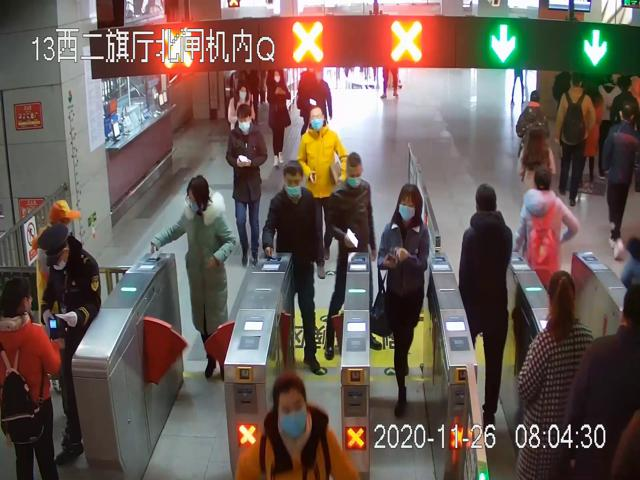person: (151, 179, 235, 380), (37, 224, 102, 462), (459, 182, 514, 432), (264, 161, 325, 373), (376, 182, 430, 416), (2, 278, 60, 480), (325, 151, 382, 355), (297, 107, 347, 276), (226, 105, 269, 270), (266, 70, 291, 169)
